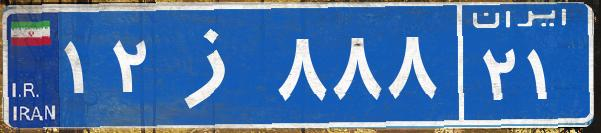1: (57, 26, 110, 107), (525, 38, 570, 115)
2: (475, 38, 525, 113), (110, 28, 158, 105)
8: (385, 28, 445, 110), (273, 28, 330, 110), (330, 28, 385, 110)
ز: (158, 15, 273, 115)
